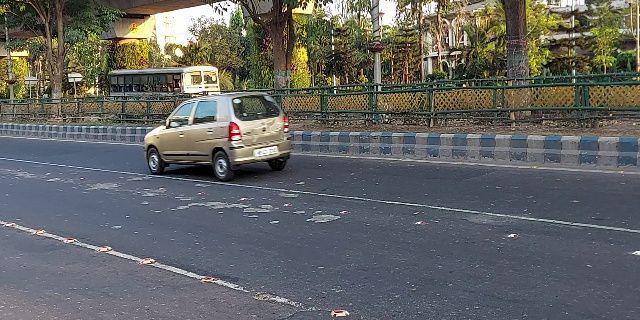Car: (141, 90, 294, 180)
